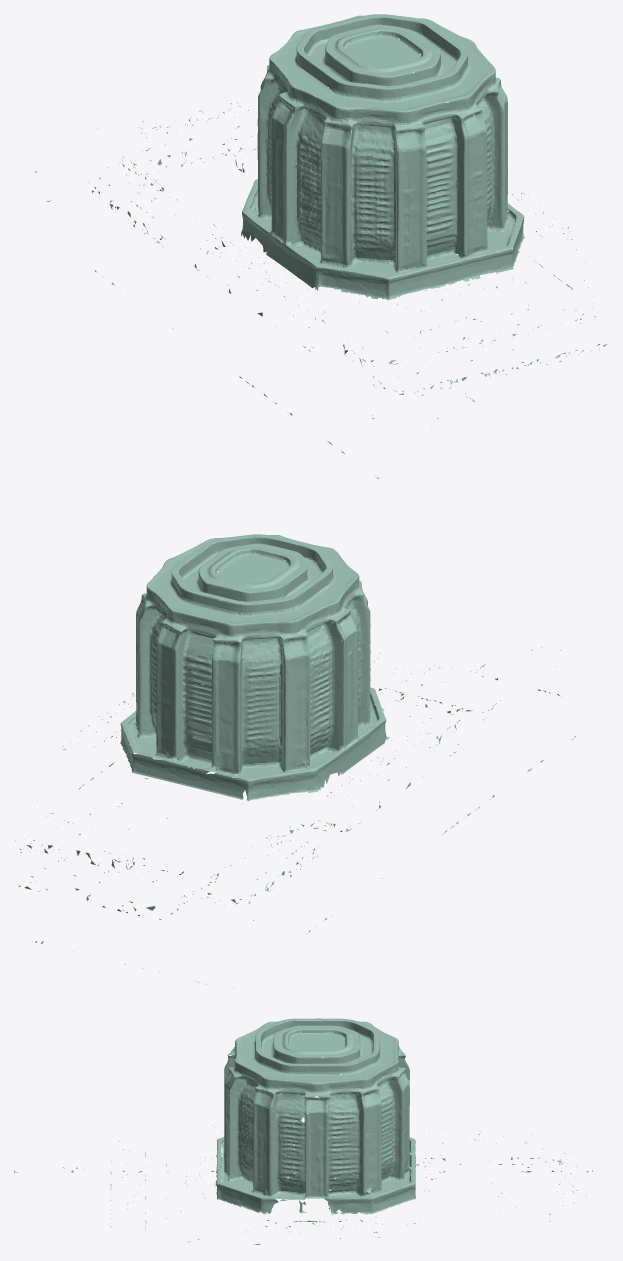
Rendered from cyberpunk-block-05-building-0.glb.
The picture shows the model from 3 angles, top to bottom: view 1: azimuth 30°, elevation 25°; view 2: azimuth 150°, elevation 25°; view 3: azimuth 270°, elevation 25°; orthographic projection. The views are drawn at different scales.
Visible parts, largest first — view 1: building_0; view 2: building_0; view 3: building_0.
Part boxes in pixels (x1=…): building_0: x1=35, y1=14, x2=607, y2=478; building_0: x1=15, y1=534, x2=575, y2=987; building_0: x1=14, y1=1018, x2=592, y2=1244.
Size of the model in its own units: 0.4697 by 0.3646 by 1.01.
